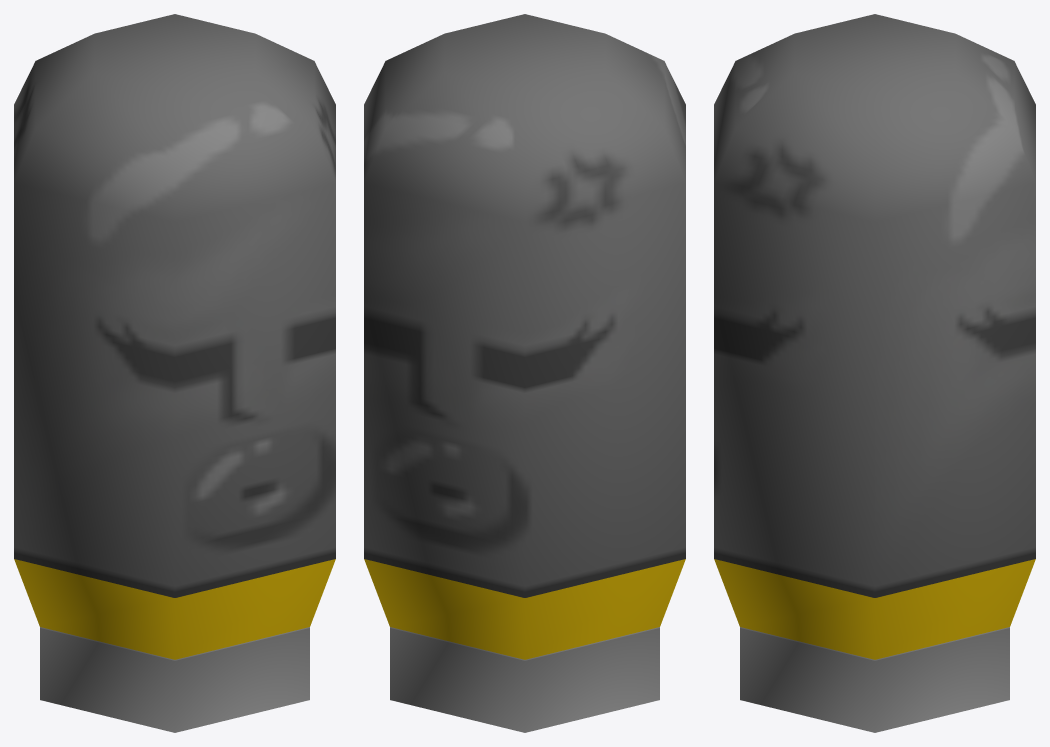
File: iron_col.FBX
The picture shows the model from 3 angles, left to right: view 1: azimuth 30°, elevation 25°; view 2: azimuth 150°, elevation 25°; view 3: azimuth 270°, elevation 25°; orthographic projection.
Visible parts, largest first — view 1: Capsule001; view 2: Capsule001; view 3: Capsule001.
Part boxes in pixels (box(x1,y1,x2,y2)): Capsule001: box(14, 14, 335, 732); Capsule001: box(364, 14, 685, 732); Capsule001: box(714, 14, 1035, 732).
Size of the model in its own units: 37.21 by 67.79 by 32.22.
